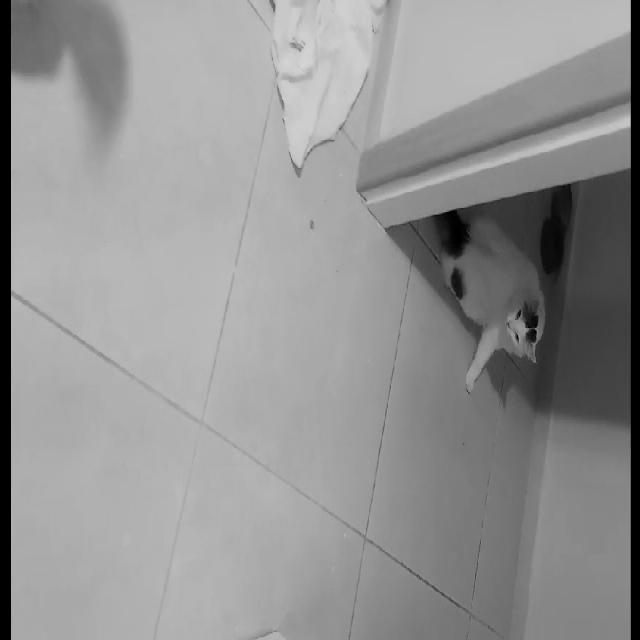Simba: (422, 214, 564, 393)
